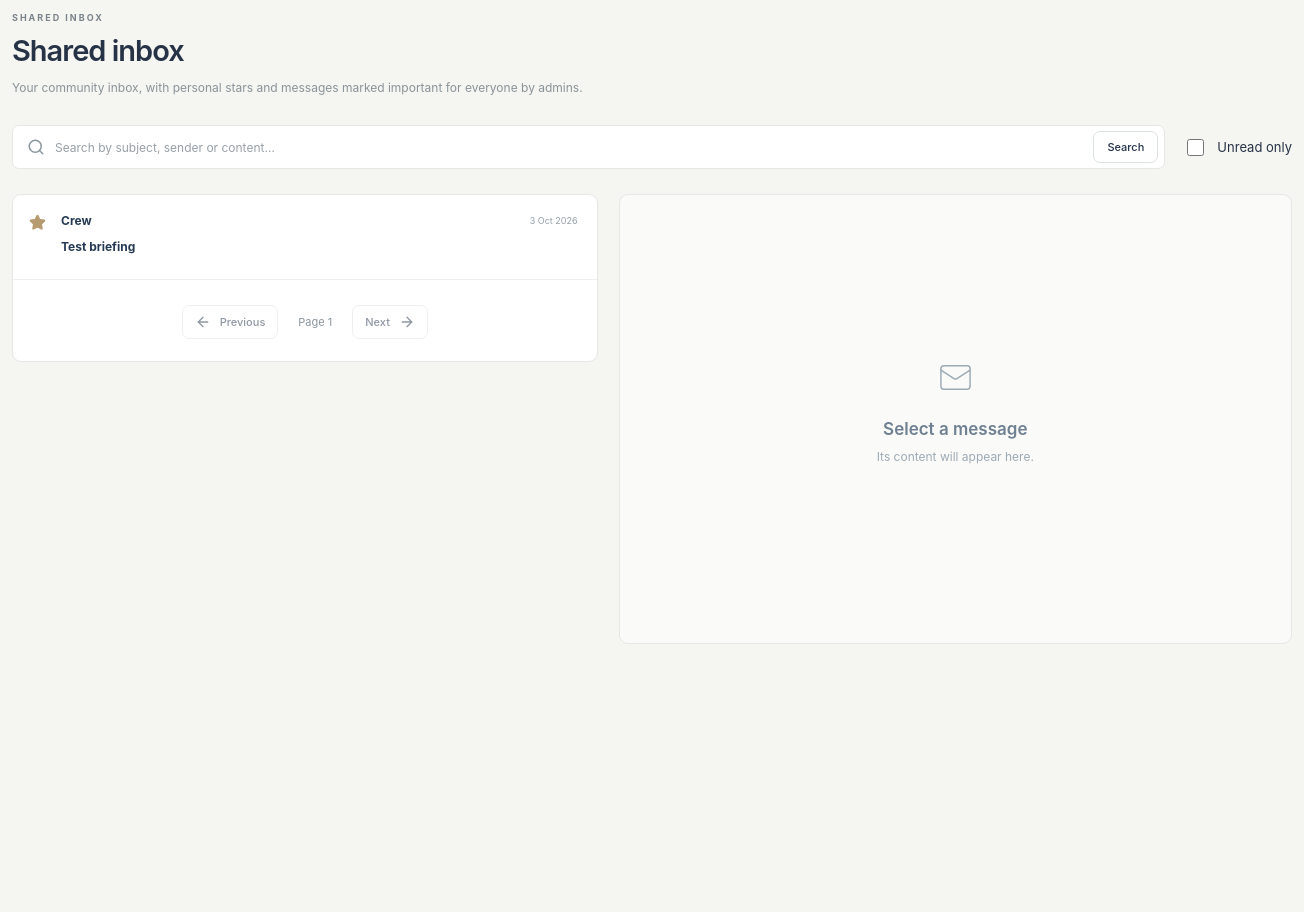
Test: Mail read state › requires confirmation for deletion and clears the selected message after success
The image size is (1304, 912).
Click the button "Crew 3 Oct 2026 Test briefing". click: (76, 221)
box: [52,213,587,261]
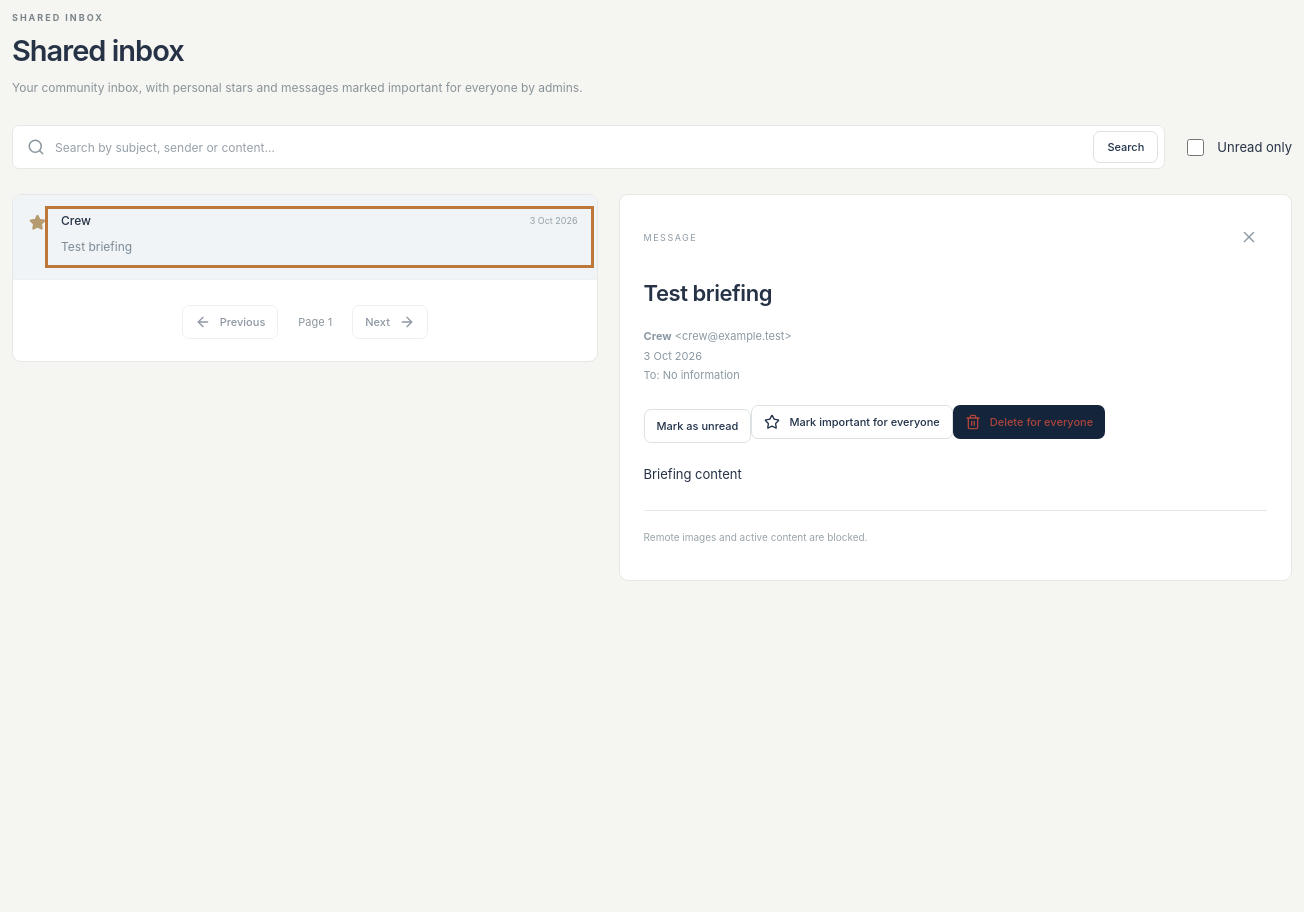
Expected: the button "Mark as unread" is shown, [644,409,751,443]
Click the button "Delete for everyone". click: (1029, 422)
box: [953,405,1105,439]
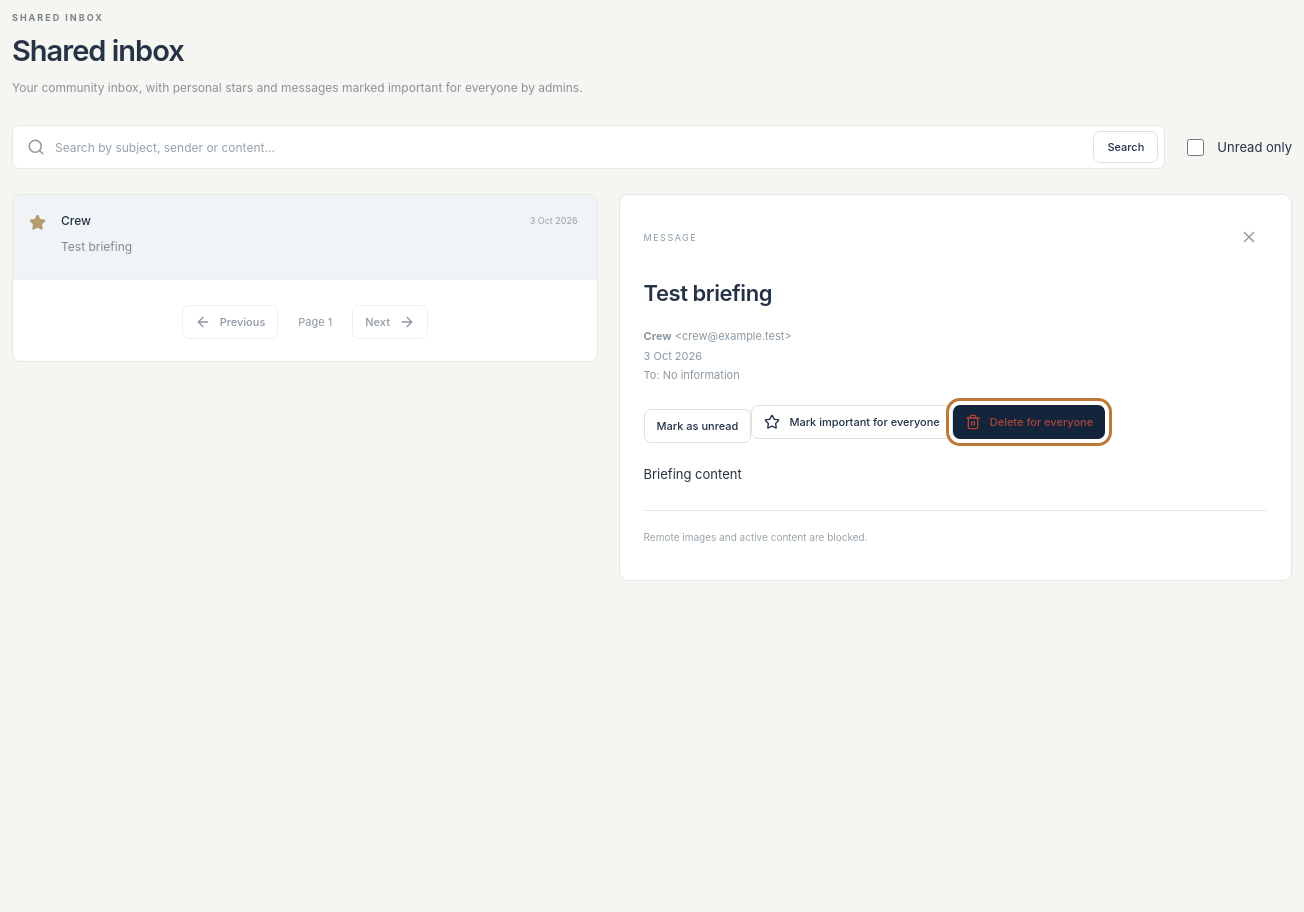
Click the button "Delete for everyone". click: (1029, 422)
box: [953,405,1105,439]
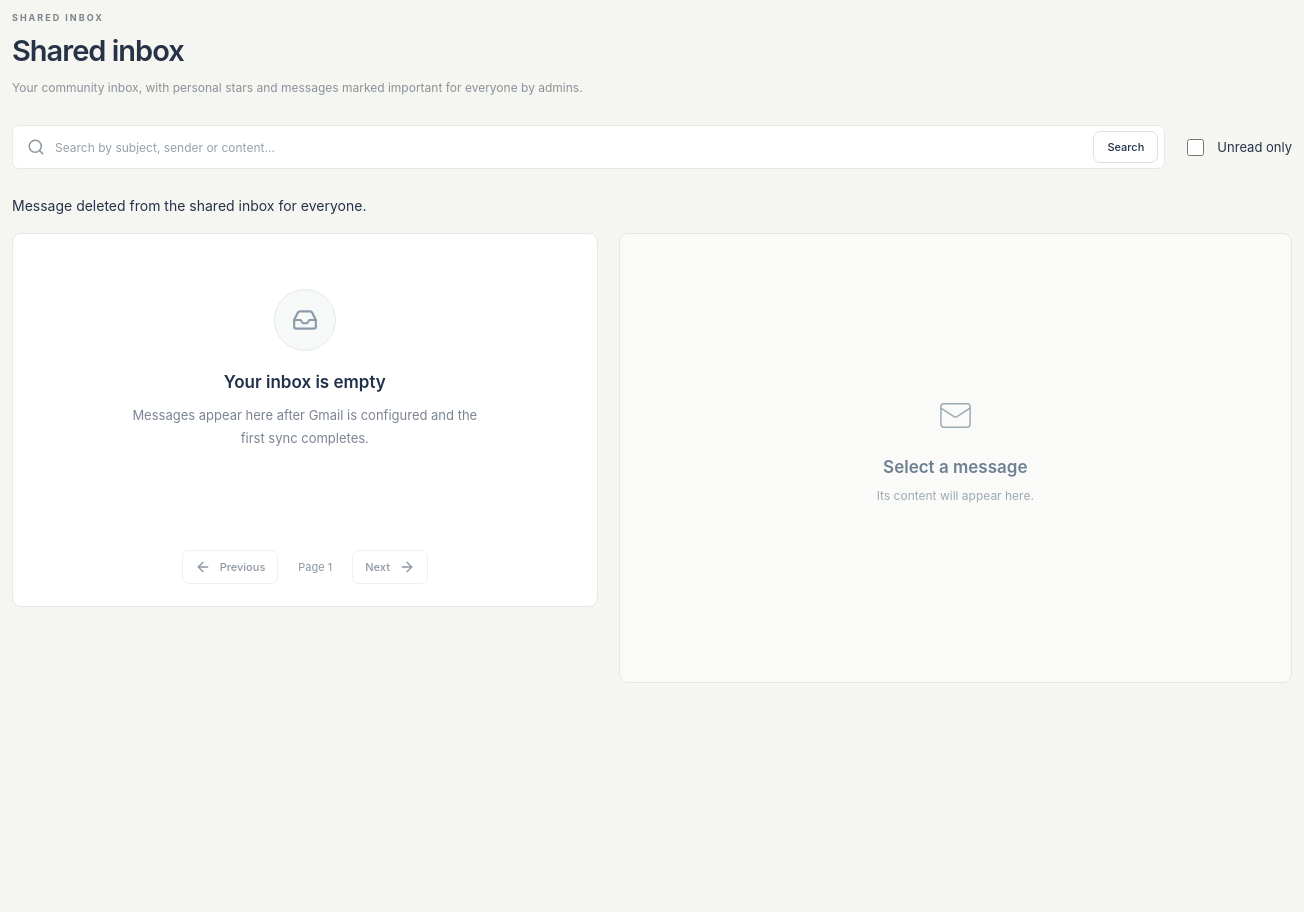
Expected: the text "Message deleted from the shared inbox for everyone." is shown, [12,197,366,214]
Expected: the text "Briefing content" is gone
Expected: the heading "Your inbox is empty" is shown, [224,372,386,392]
